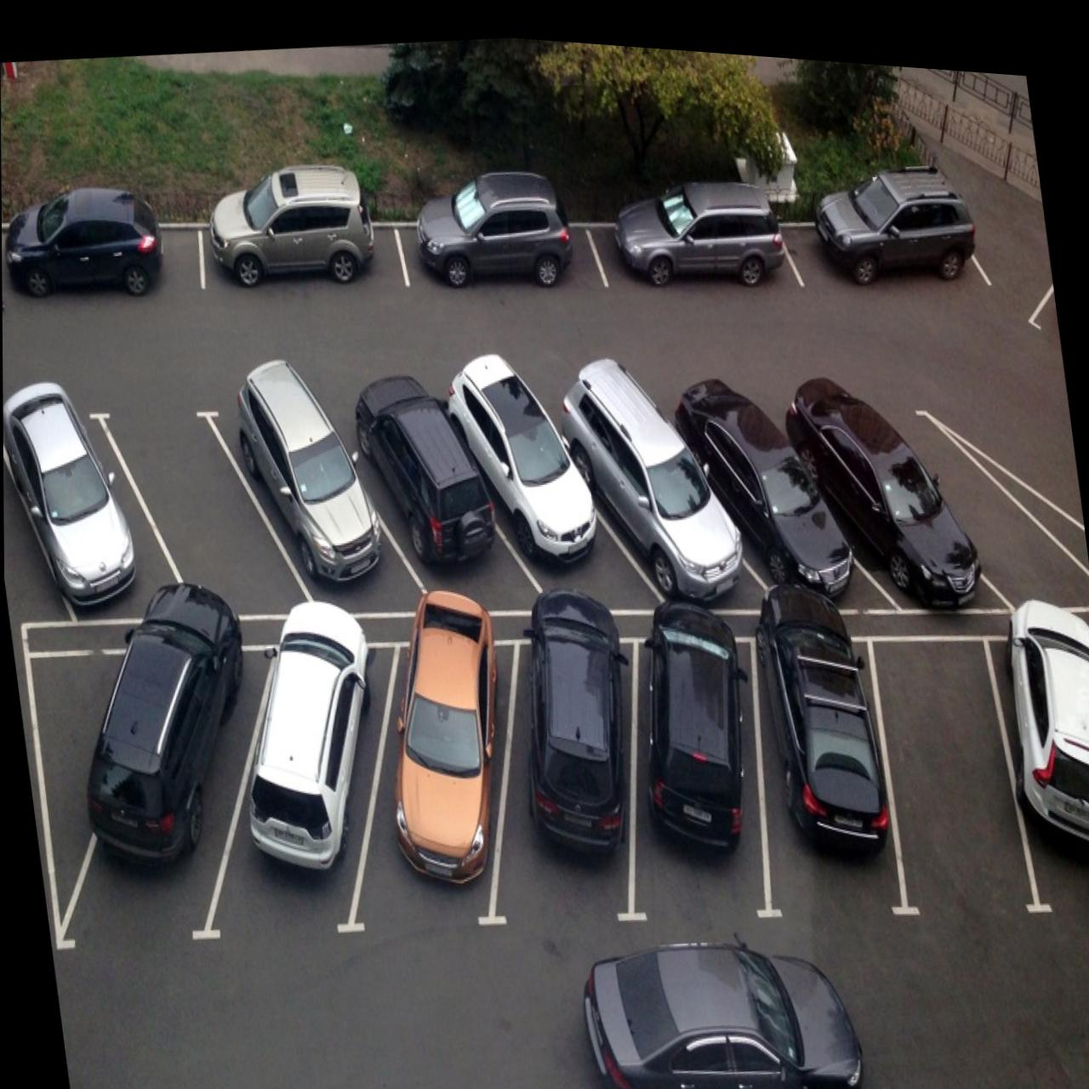cars: (454, 606, 665, 948), (207, 625, 417, 948), (91, 610, 300, 927), (347, 618, 544, 954), (613, 612, 770, 930), (738, 627, 893, 921), (574, 361, 732, 607), (447, 351, 593, 614), (798, 380, 945, 639), (234, 374, 381, 611), (687, 367, 822, 622), (3, 383, 141, 618), (353, 365, 485, 608), (993, 619, 1089, 914), (2, 204, 207, 333), (397, 194, 598, 320), (202, 197, 406, 321), (791, 198, 983, 316), (601, 190, 784, 308)
empty: (863, 633, 1028, 926), (893, 360, 1067, 626), (122, 385, 279, 635)
